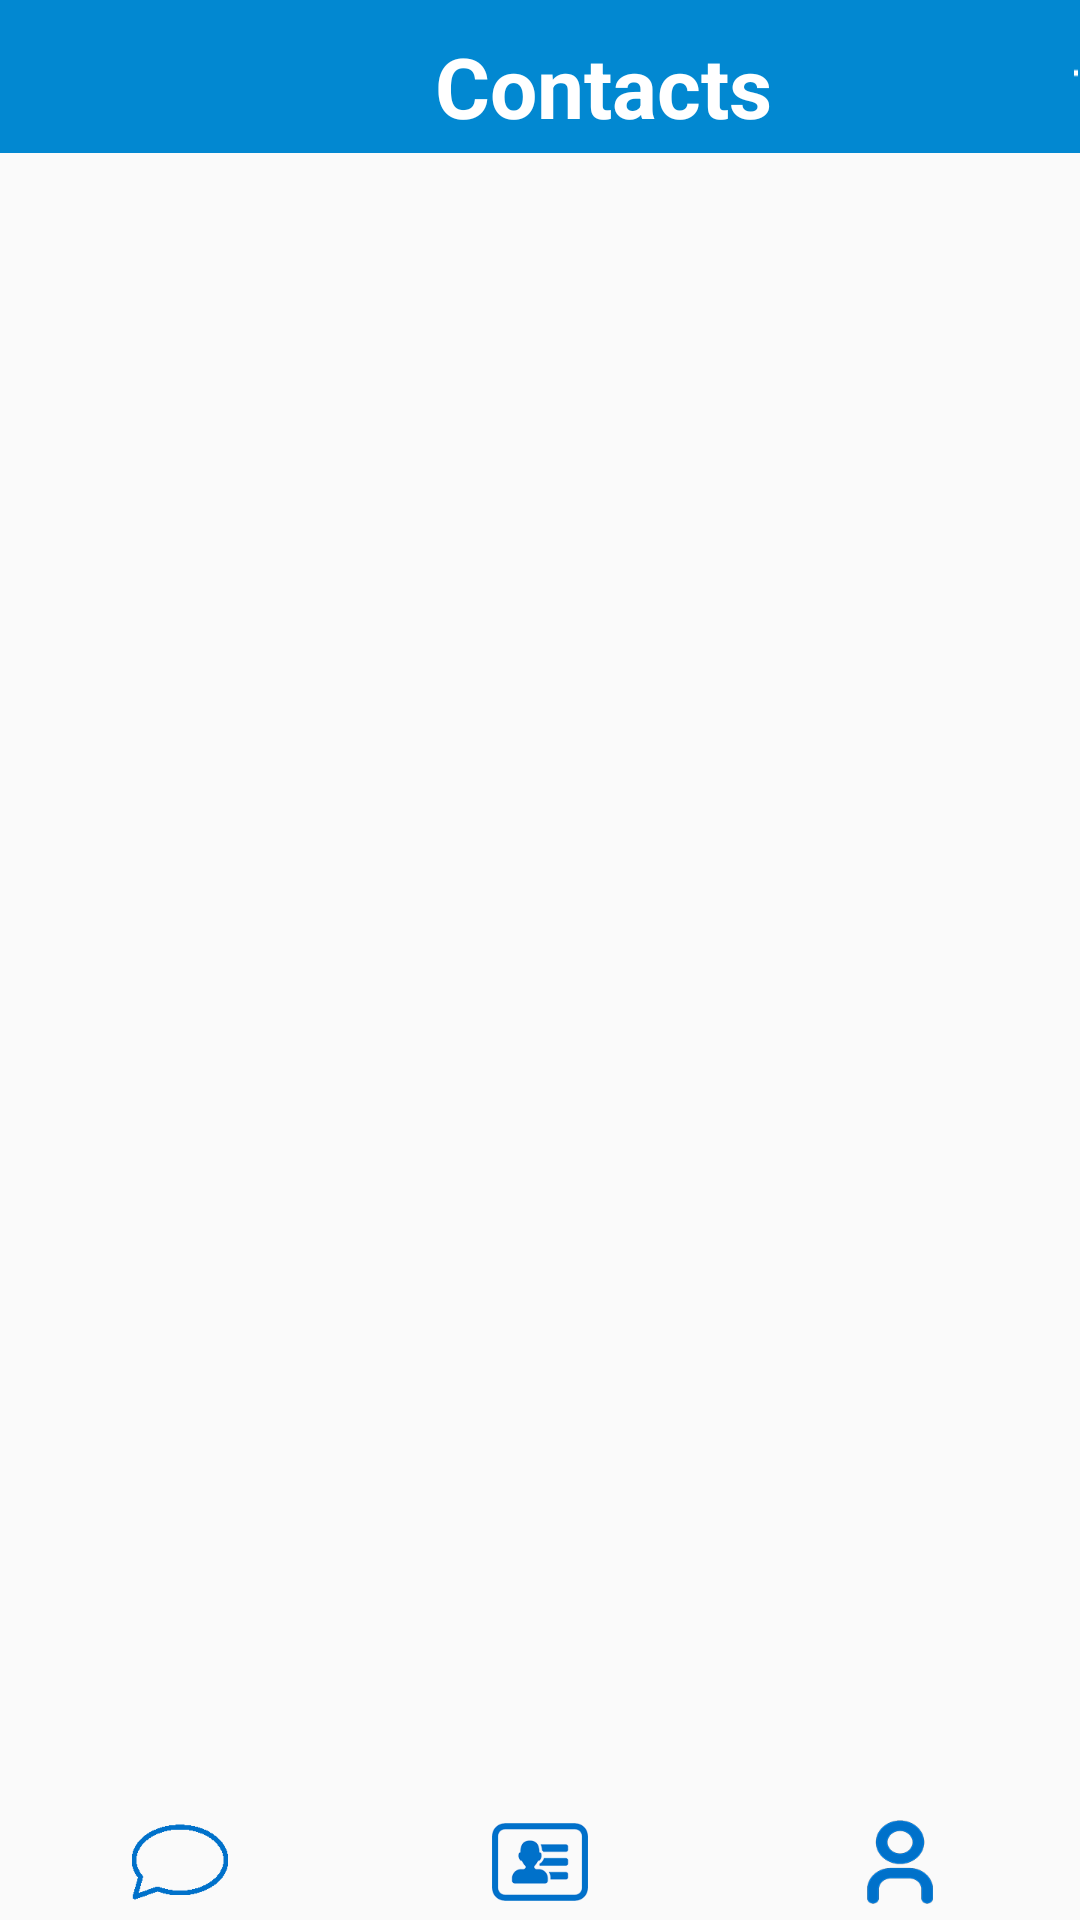

Icons on this 1080×1920 Android screen, each with its box as (x1, y1, x2, y2):
chat: (132, 1824, 228, 1900)
contact: (492, 1823, 588, 1901)
